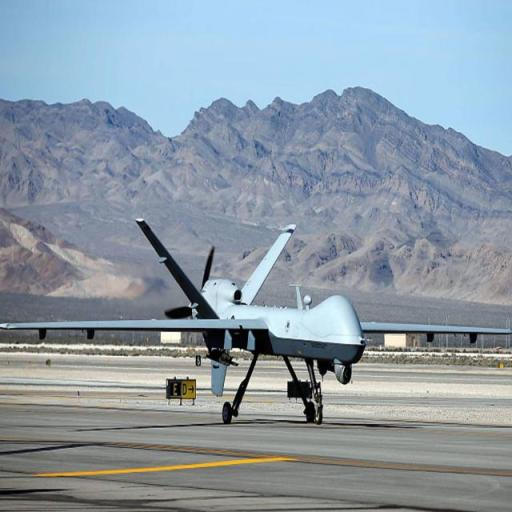uav: (5, 212, 510, 412)
